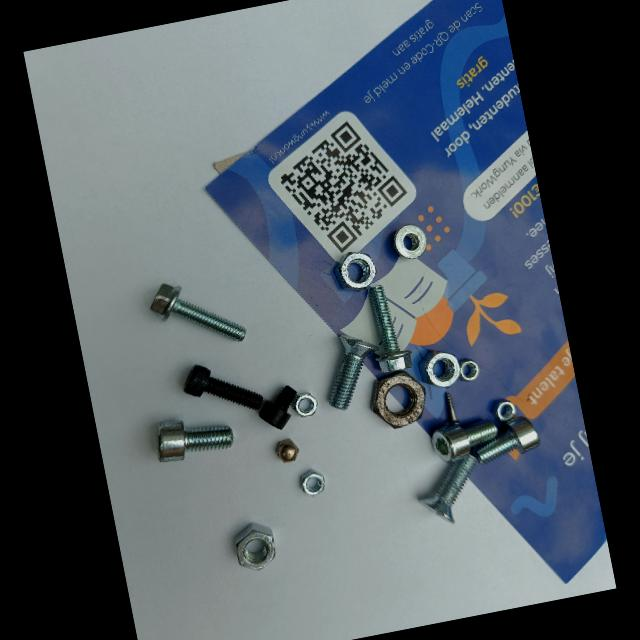bolt: (150, 284, 246, 341), (418, 453, 478, 522), (368, 285, 412, 373), (329, 335, 379, 410), (184, 365, 264, 410), (474, 417, 540, 464), (158, 421, 233, 462), (431, 419, 499, 462), (259, 386, 297, 429), (444, 392, 460, 427)
nuts: (372, 371, 426, 428), (234, 522, 276, 570), (334, 252, 376, 293), (419, 350, 461, 388), (393, 224, 427, 259), (300, 469, 325, 496), (291, 392, 318, 417), (490, 399, 516, 423), (276, 439, 299, 463), (459, 359, 479, 381)
